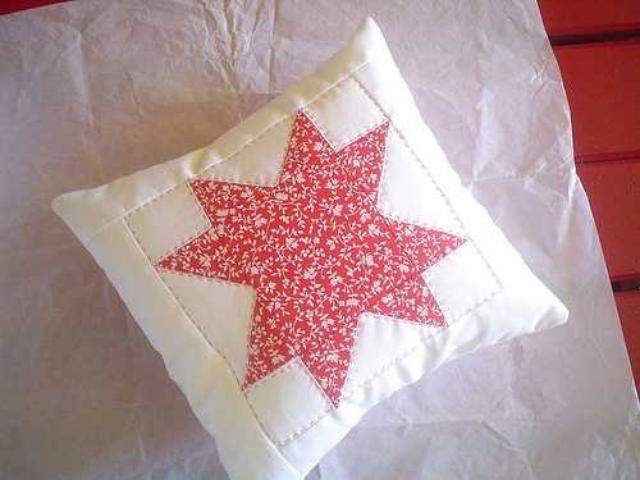pillow: (49, 14, 569, 478)
